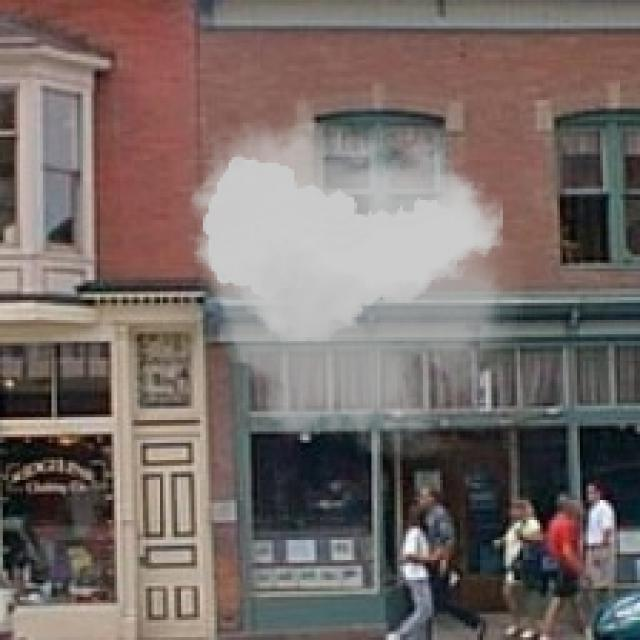smoke: (180, 91, 526, 480)
